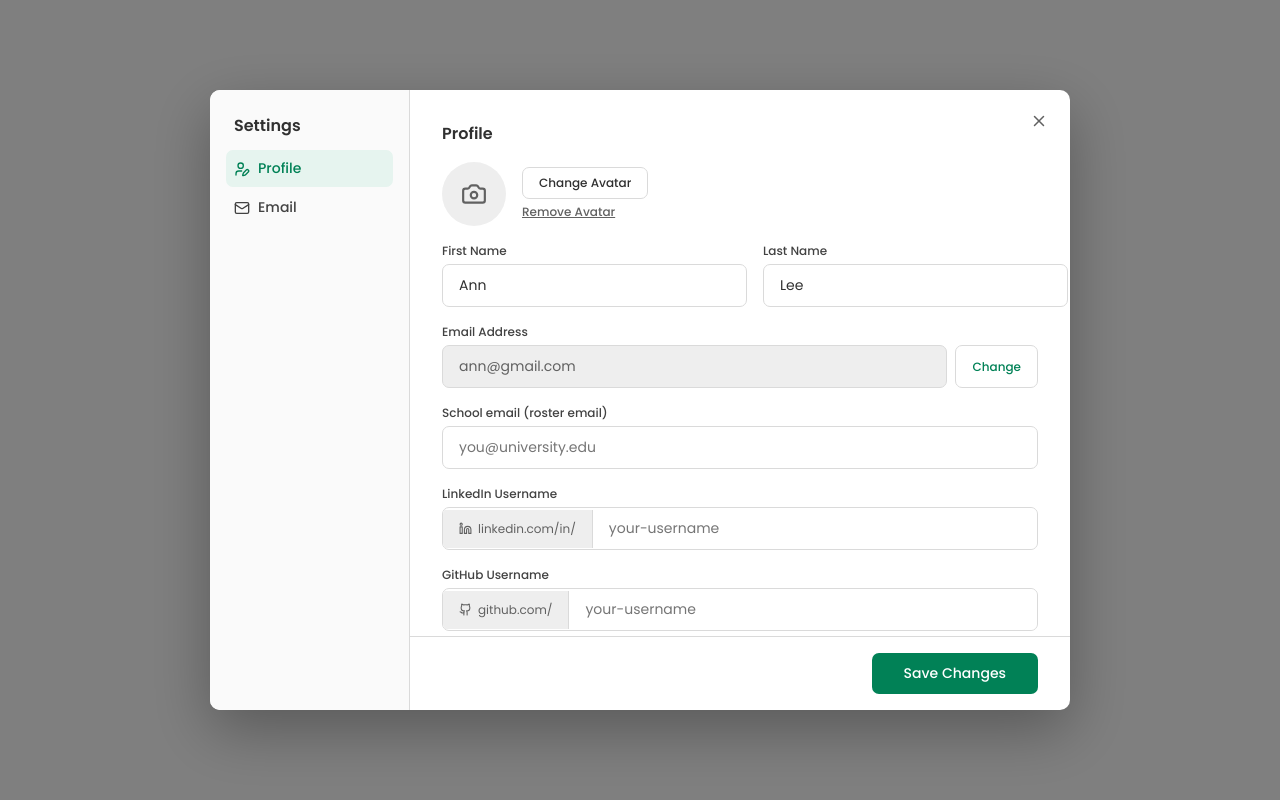
Settings — Email › loading › tells the reader only what is fit to read when loading fails with a 503 with its text
Click the button "Email" at (310, 208), box [226, 189, 393, 226]
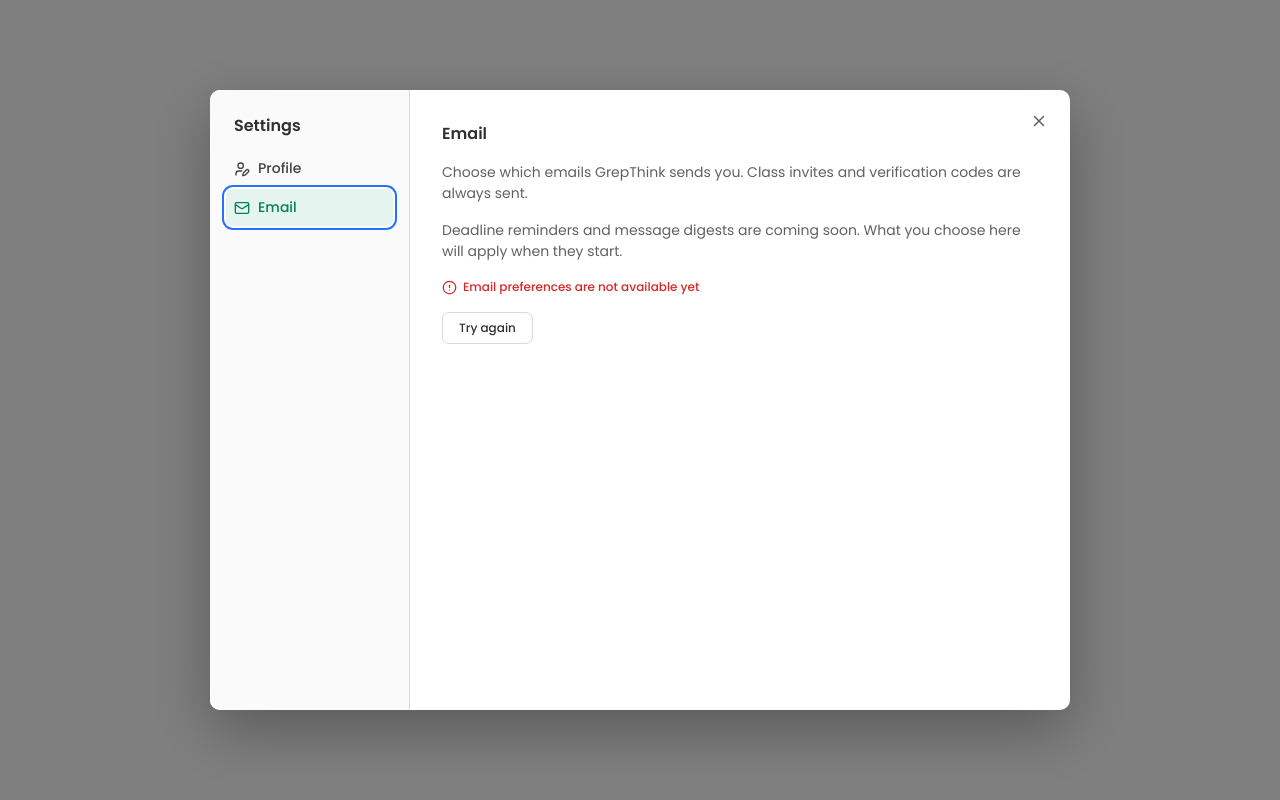
Expected: the message reads "Email preferences are not available yet", [463, 278, 700, 295]
Expected: the button "Try again" is shown, [442, 312, 533, 344]
